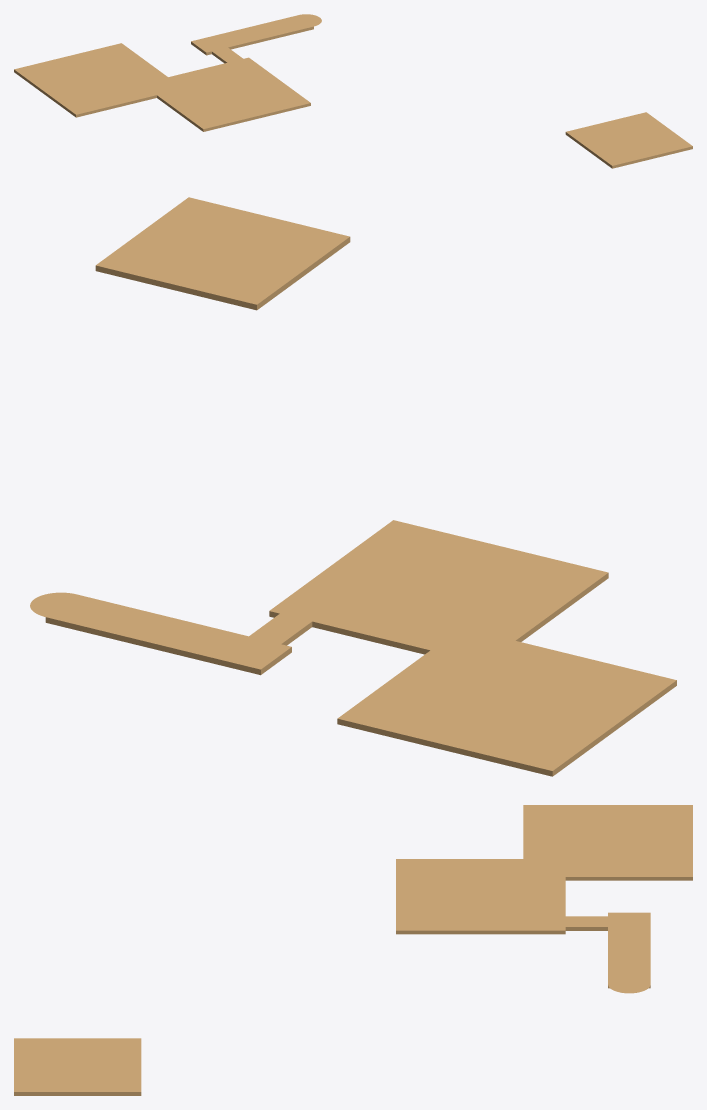
File: board.glb
The picture shows the model from 3 angles, top to bottom: view 1: azimuth 30°, elevation 25°; view 2: azimuth 150°, elevation 25°; view 3: azimuth 270°, elevation 25°; orthographic projection. The views are drawn at different scales.
Visible parts, largest first — view 1: Unified_Net_1_Island_0 (×2), Unified_Net_2_Island_0; view 2: Unified_Net_1_Island_0 (×2), Unified_Net_2_Island_0; view 3: Unified_Net_1_Island_0, Unified_Net_2_Island_0.
Boxes of the visible parts, x1=… form: Unified_Net_1_Island_0 (×2): x1=14, y1=14, x2=321, y2=131; Unified_Net_2_Island_0: x1=565, y1=112, x2=692, y2=168; Unified_Net_1_Island_0 (×2): x1=30, y1=520, x2=676, y2=776; Unified_Net_2_Island_0: x1=95, y1=197, x2=350, y2=310; Unified_Net_1_Island_0: x1=396, y1=805, x2=692, y2=988; Unified_Net_2_Island_0: x1=14, y1=1038, x2=141, y2=1095.
Size of the model in its own units: 0.016 by 0.0001 by 0.016.
